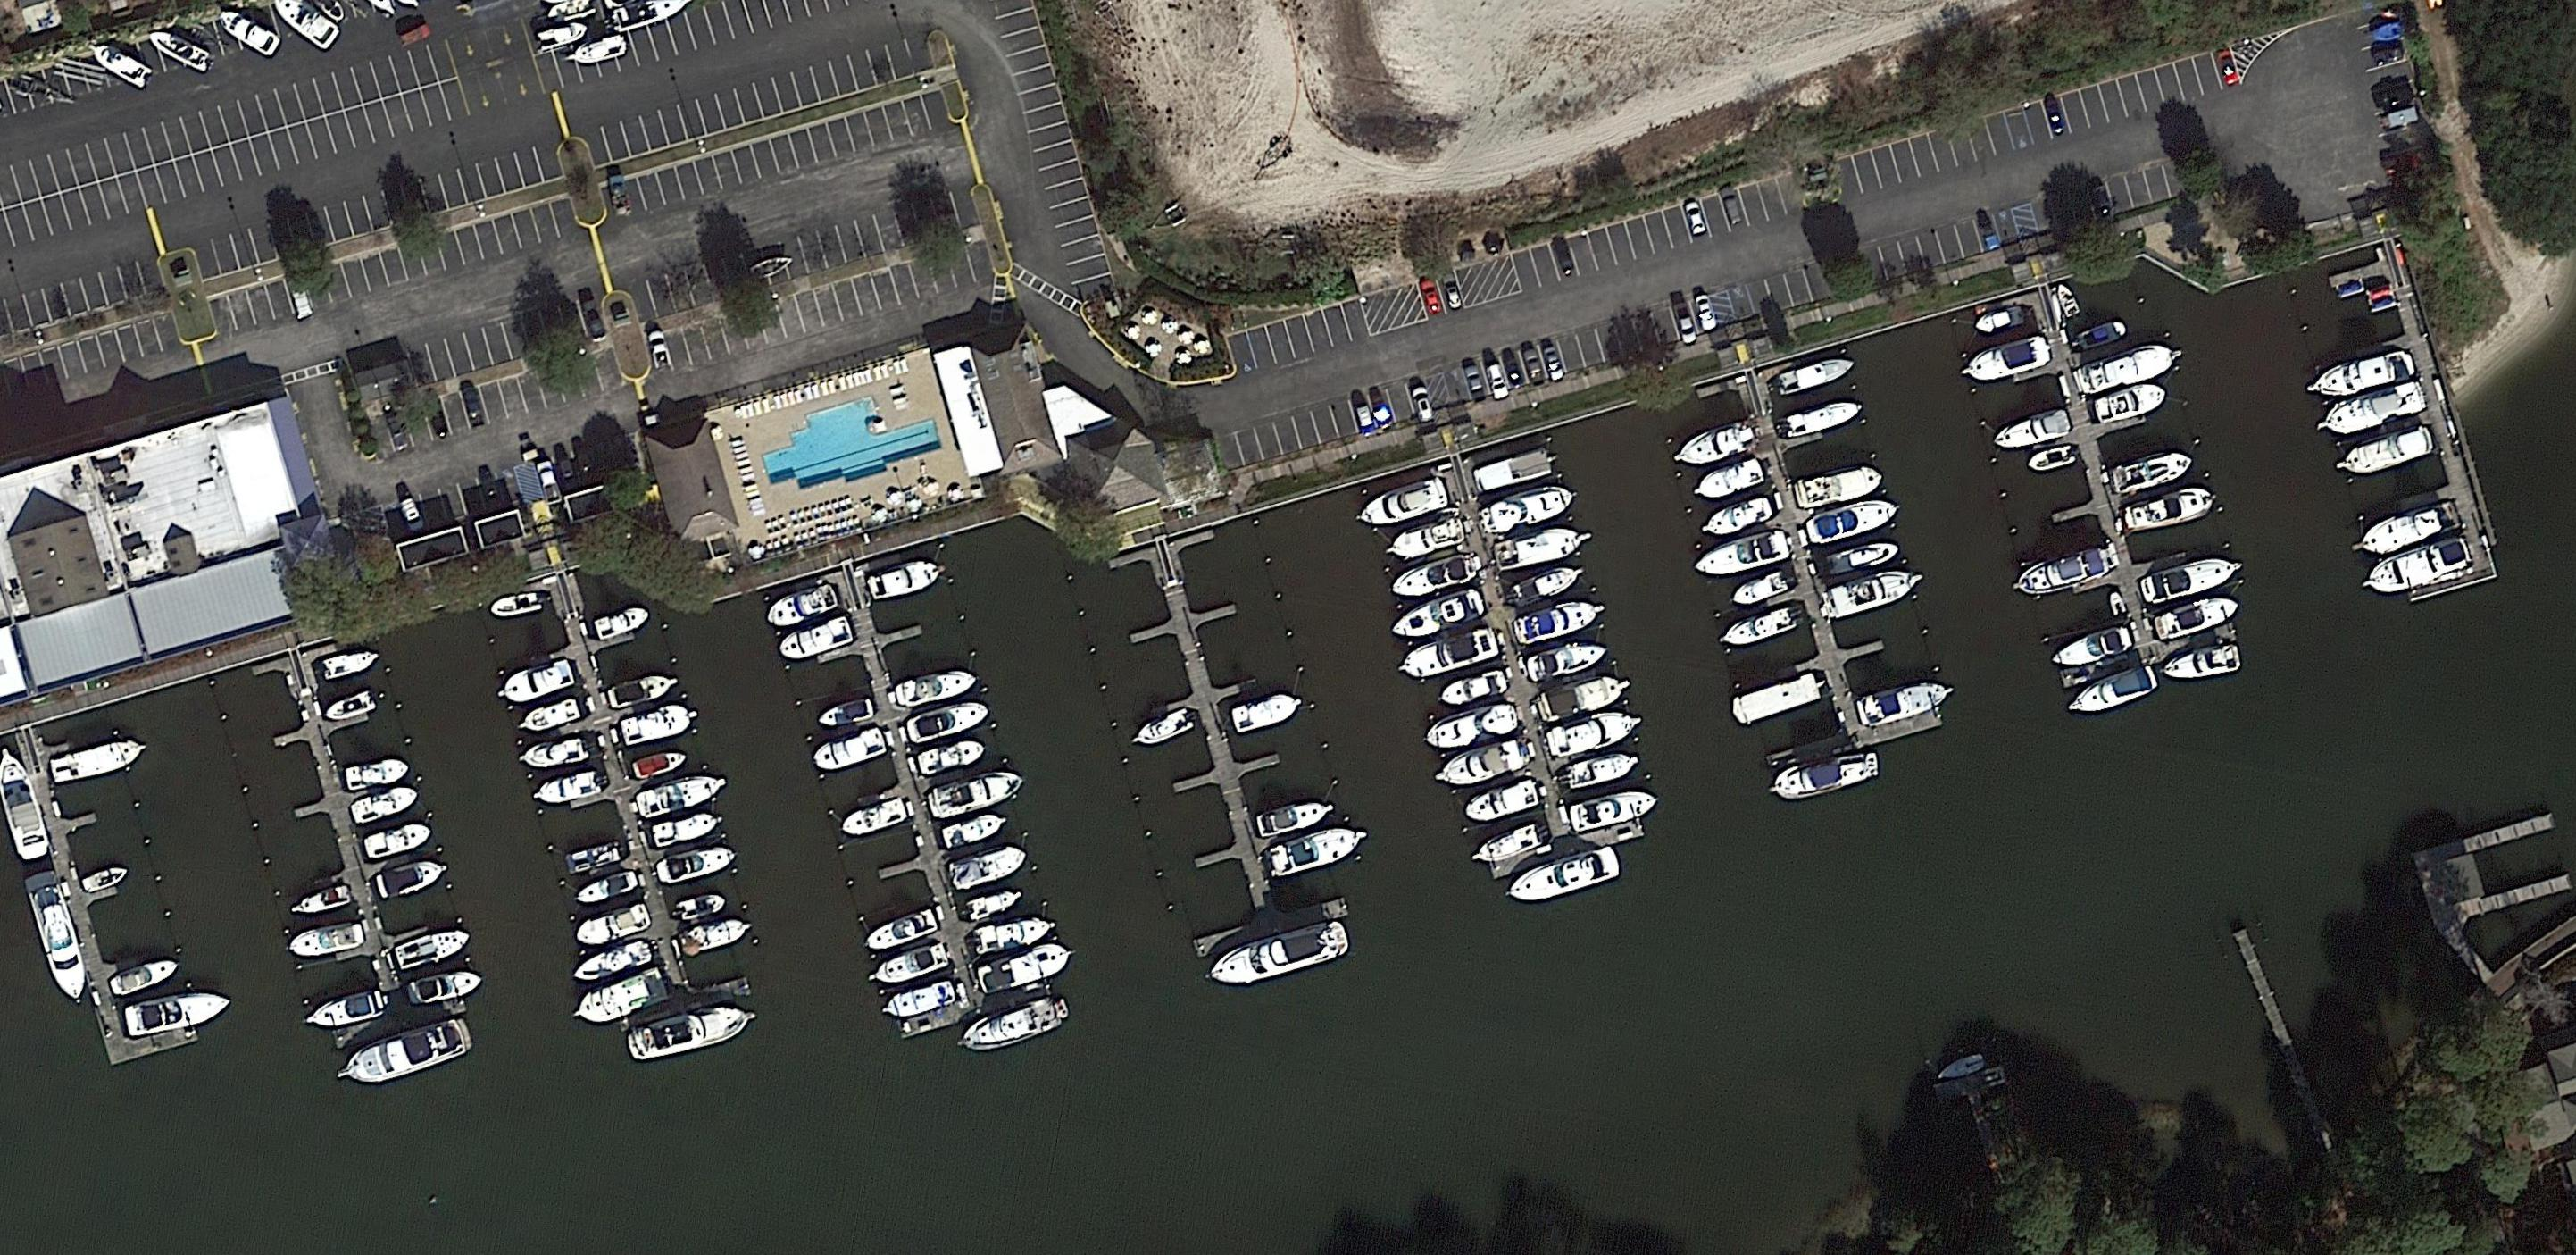harbor: (766, 544, 1065, 1043), (481, 555, 761, 1043), (1950, 258, 2259, 698), (1367, 432, 1661, 885), (1658, 348, 1957, 779), (1089, 514, 1354, 961), (227, 636, 471, 1060), (2292, 253, 2504, 608), (13, 703, 207, 1074)
ship: (1203, 918, 1359, 994), (332, 1014, 478, 1091), (21, 866, 95, 1009), (623, 999, 767, 1068), (1502, 843, 1628, 912), (950, 992, 1079, 1058), (2353, 534, 2476, 603), (2072, 333, 2185, 401), (2346, 501, 2463, 565), (1390, 624, 1508, 687), (1764, 747, 1884, 808), (563, 966, 672, 1032), (2137, 544, 2247, 608), (1820, 563, 1934, 624), (2303, 348, 2418, 407), (971, 938, 1083, 999), (2313, 379, 2426, 439), (1490, 516, 1600, 577), (2011, 540, 2123, 600), (1388, 583, 1493, 646), (922, 762, 1028, 823), (1382, 547, 1492, 605), (1526, 669, 1636, 726), (1265, 821, 1372, 880), (1957, 332, 2057, 394), (1802, 491, 1911, 549), (1475, 480, 1584, 537), (1725, 670, 1830, 729), (1347, 475, 1452, 534), (2330, 425, 2438, 481), (2062, 662, 2164, 721), (1541, 706, 1651, 761), (1431, 736, 1538, 792), (1511, 593, 1617, 649), (1667, 414, 1763, 475), (1567, 782, 1671, 838), (1853, 673, 1957, 729), (2147, 588, 2246, 646), (123, 987, 238, 1037), (629, 767, 736, 820), (2, 742, 49, 859), (1502, 555, 1595, 614), (1689, 527, 1794, 580), (1419, 700, 1521, 754), (48, 738, 154, 788), (1373, 513, 1469, 568), (1789, 458, 1889, 511), (1472, 440, 1566, 496), (2119, 485, 2221, 536), (1459, 774, 1551, 830), (2111, 444, 2200, 501), (943, 839, 1032, 897), (1773, 393, 1870, 445), (563, 936, 660, 989), (895, 698, 992, 751), (2047, 618, 2139, 672), (861, 554, 953, 608), (1988, 404, 2077, 460), (1520, 634, 1617, 685), (762, 578, 848, 636), (491, 657, 583, 710), (652, 839, 744, 890), (1464, 820, 1556, 871), (1768, 352, 1861, 401), (885, 667, 979, 716), (964, 910, 1060, 958), (1715, 605, 1807, 654), (391, 920, 476, 972), (1250, 792, 1344, 839), (613, 698, 703, 747), (80, 34, 158, 92), (404, 964, 491, 1015), (368, 856, 457, 905), (779, 614, 859, 669), (812, 723, 892, 777), (1686, 455, 1768, 508), (297, 987, 388, 1035), (904, 736, 992, 784), (1822, 536, 1909, 583), (1125, 700, 1204, 752), (1554, 747, 1646, 792), (866, 943, 954, 989), (572, 900, 654, 949), (861, 907, 941, 956), (145, 23, 218, 76), (1433, 664, 1516, 710), (212, 5, 283, 59), (286, 918, 368, 964), (935, 808, 1017, 854), (1229, 688, 1304, 738), (1699, 494, 1779, 540), (347, 782, 427, 828), (881, 977, 961, 1023), (675, 915, 761, 958), (2157, 644, 2246, 685), (2091, 379, 2172, 424), (649, 805, 729, 849), (358, 816, 439, 861), (605, 667, 685, 711), (108, 953, 184, 999), (588, 598, 664, 644), (836, 797, 908, 843), (516, 693, 588, 738), (531, 769, 603, 813), (568, 866, 642, 908), (956, 882, 1030, 923), (1727, 568, 1792, 611), (562, 836, 628, 879), (320, 642, 388, 683), (516, 736, 595, 770), (562, 33, 631, 71), (289, 884, 355, 922), (342, 754, 409, 790), (669, 887, 733, 925), (812, 693, 876, 731), (629, 746, 695, 782), (534, 15, 591, 56), (2070, 315, 2131, 353), (322, 688, 383, 724), (79, 859, 135, 895), (486, 590, 550, 621), (1968, 304, 2029, 337), (746, 250, 797, 284), (1934, 1051, 1985, 1084), (2026, 444, 2078, 475), (2055, 281, 2083, 320), (2362, 21, 2403, 46)
